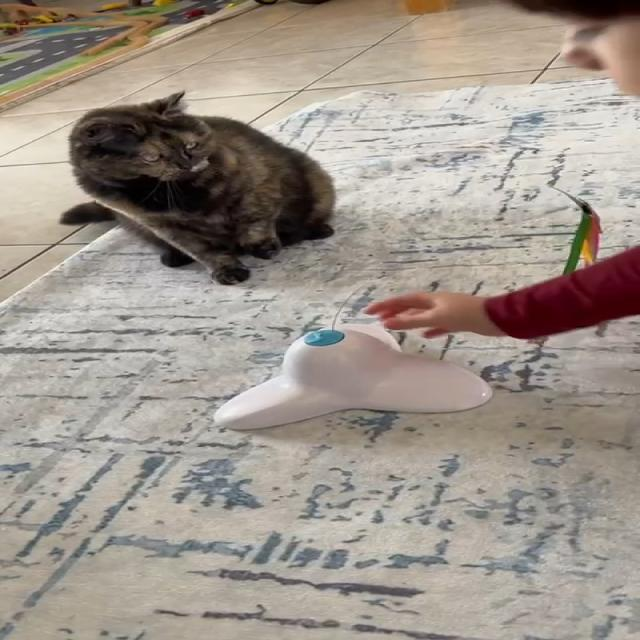authorized: (59, 89, 336, 285)
